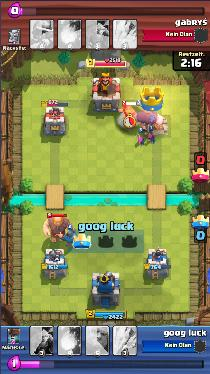ally_archer: (146, 133, 156, 144), (137, 134, 145, 146)
ally_giant: (133, 109, 164, 132)
ally_knight: (58, 231, 82, 247)
enemy_giant: (42, 217, 74, 242)
enemy_knight: (118, 106, 137, 126)
